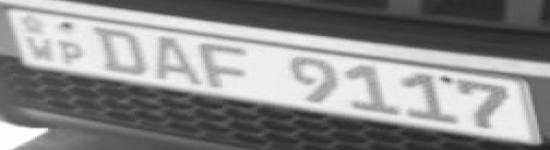1: (343, 61, 402, 116), (401, 68, 458, 124)
7: (454, 76, 512, 131)
9: (279, 53, 342, 106)
A: (197, 40, 250, 90), (154, 36, 200, 89)
D: (90, 25, 152, 75)
P: (59, 41, 87, 67)
W: (22, 36, 58, 62)
